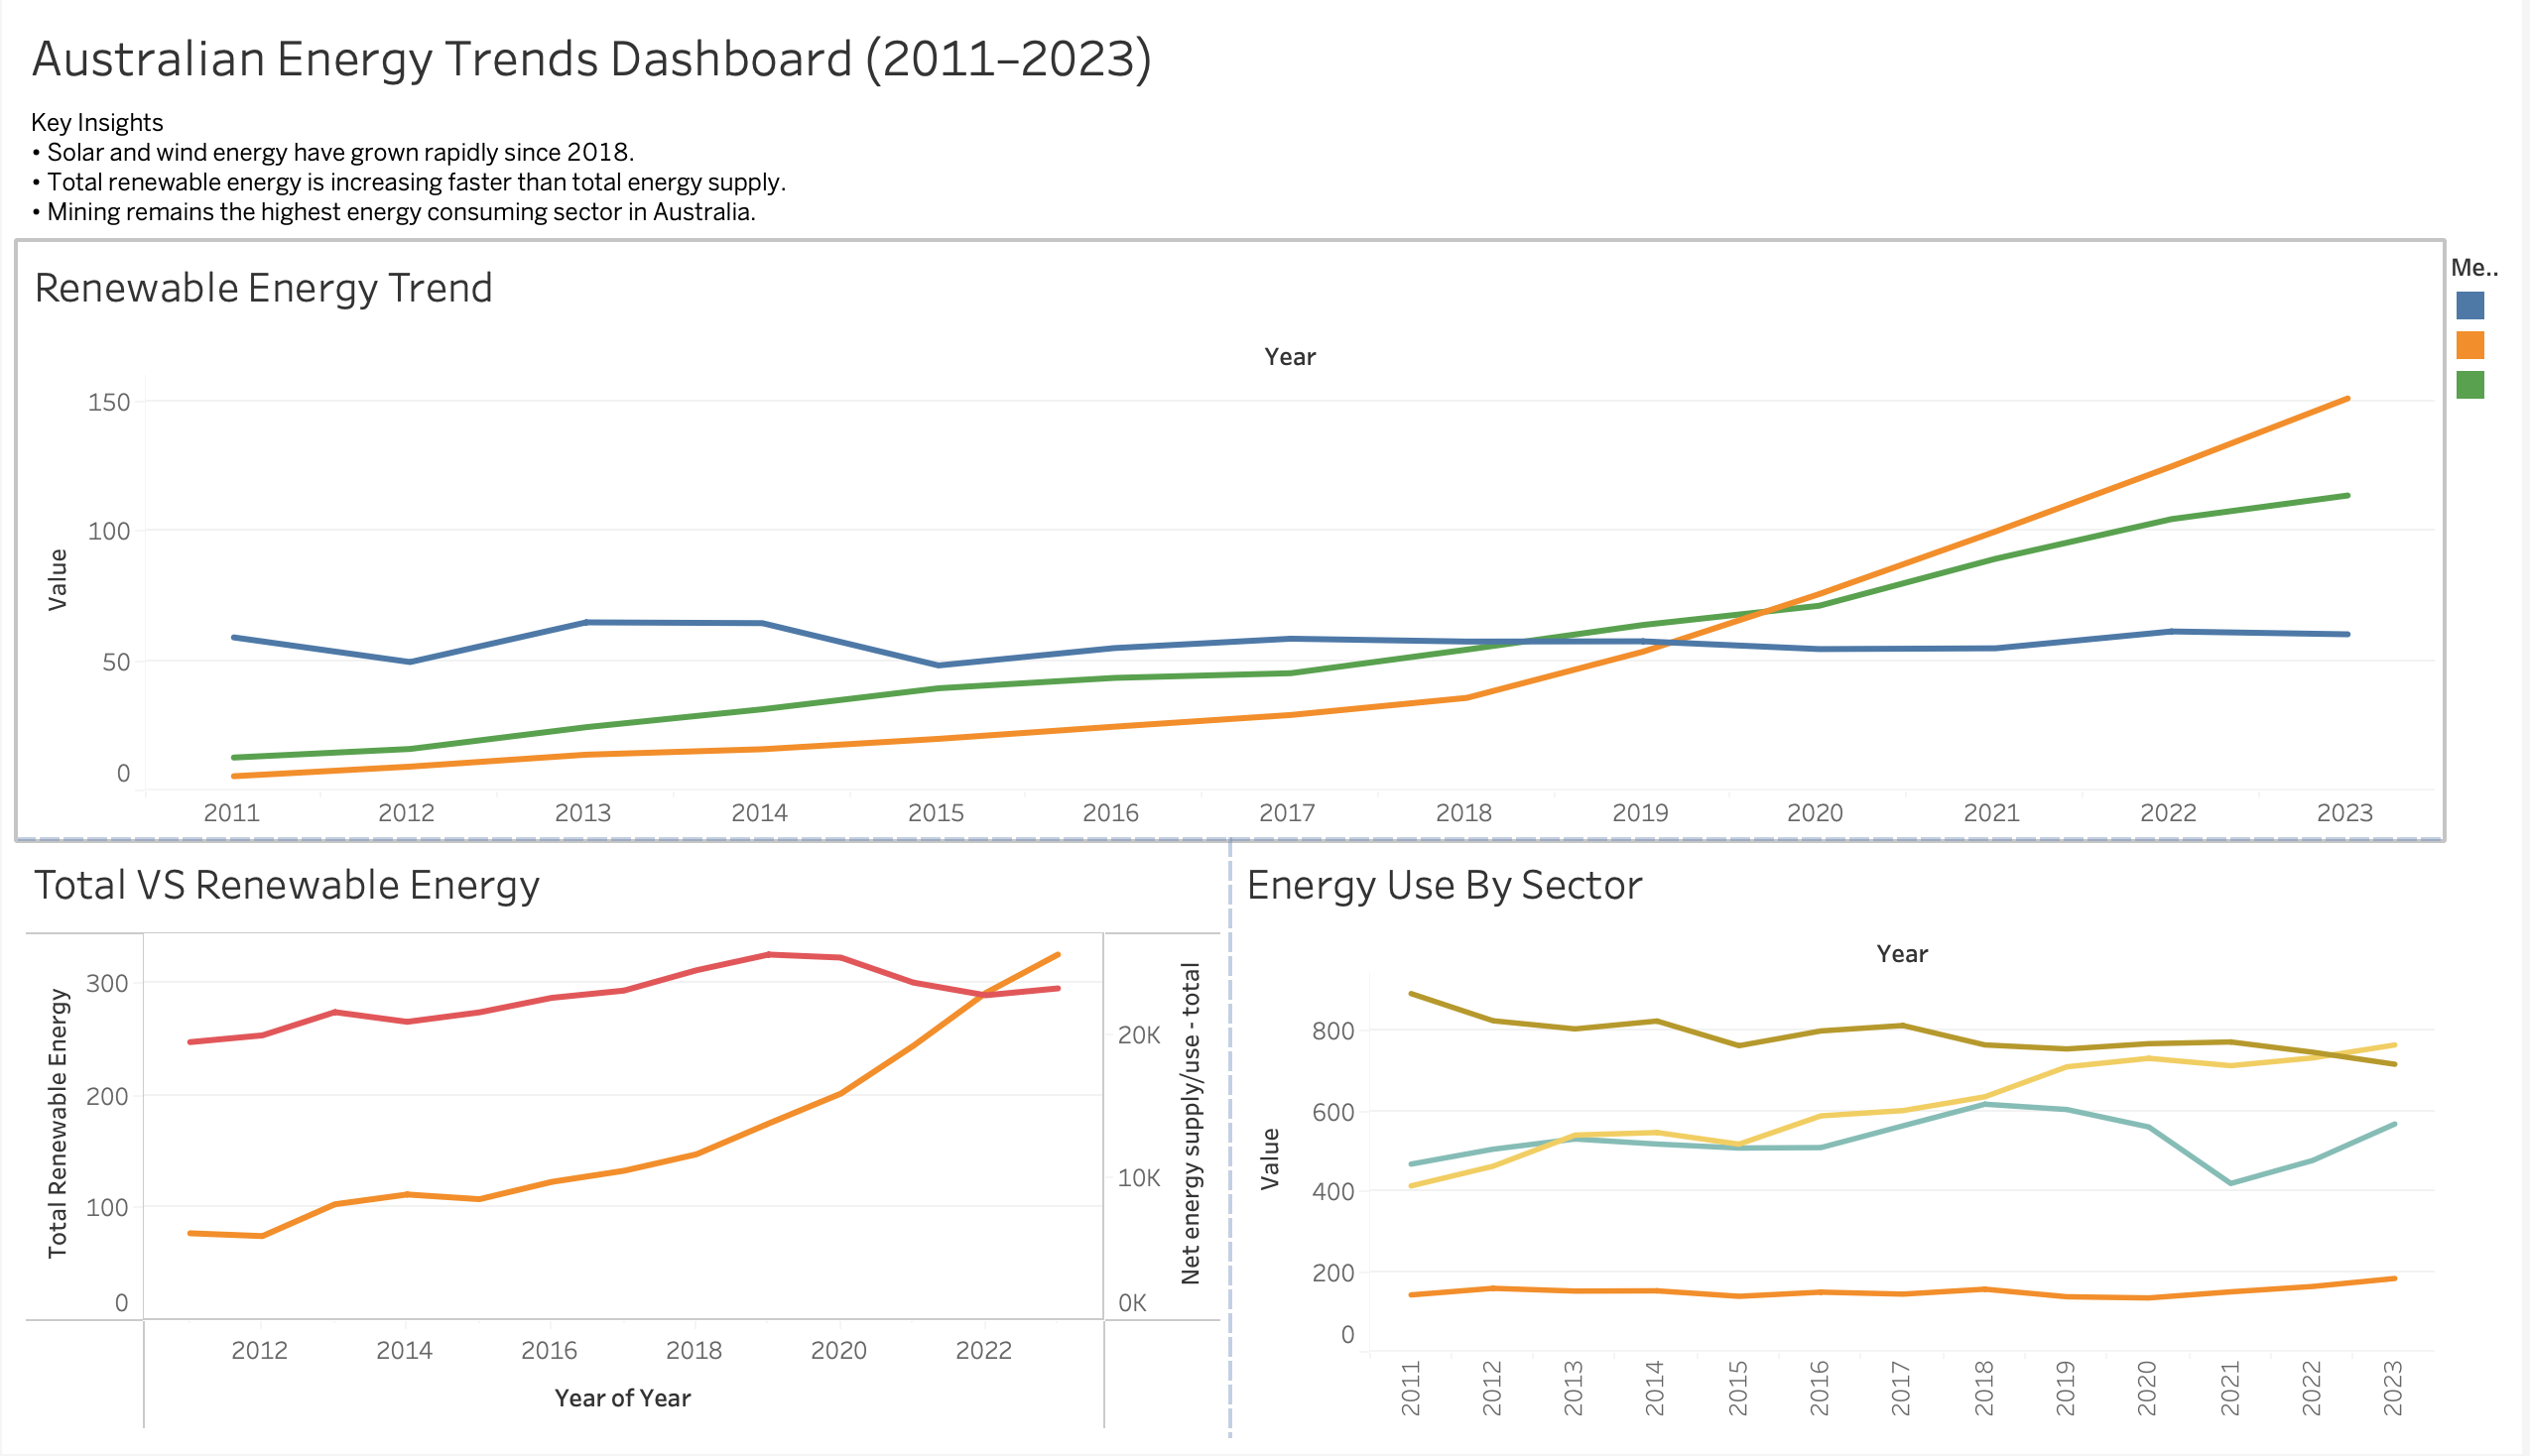

The page's visual inventory and layout, read from the dashboard file:
{"tool":"tableau","page":{"name":"Australian Energy Trends Dashboard (2011–2023)","canvas":[1000,1000],"units":"permille","ordinal":0},"visuals":[{"type":"title","box":[8.9,15.1,982.3,79.1]},{"type":"text","box":[8.9,94.2,982.3,135.6]},{"type":"worksheet","title":"Renewable Energy Trend","mark":"Automatic","cols":["YEAR"],"box":[8.9,229.8,946.8,377.5]},{"type":"legend","title":"Renewable Energy Trend","param":"[federated.1jdl8g20y6vx8y18bq85b0utstwu].[:Measure Names]","box":[955.7,229.8,35.4,162]},{"type":"worksheet","title":"Total VS Renewable Energy","mark":"Automatic","rows":["Calculation_1840492512391168","Net energy supply/use - total"],"cols":["YEAR"],"box":[8.9,607.3,473.3,377.6]},{"type":"worksheet","title":"Energy Use By Sector","mark":"Automatic","cols":["YEAR"],"box":[482.2,607.3,473.5,377.6]}]}

Visuals, with their boxes on the dashboard's canvas, which has no fixed pixel size, in thousandths of its width and height (x1, y1, x2, y2). These are canvas units, not pixel positions in the 2530x1456 screenshot, which may show the page scaled, cropped or inside an application window:
title: <region>9, 15, 991, 94</region>
text: <region>9, 94, 991, 230</region>
"Renewable Energy Trend" worksheet: <region>9, 230, 956, 607</region>
"Renewable Energy Trend" legend: <region>956, 230, 991, 392</region>
"Total VS Renewable Energy" worksheet: <region>9, 607, 482, 985</region>
"Energy Use By Sector" worksheet: <region>482, 607, 956, 985</region>
